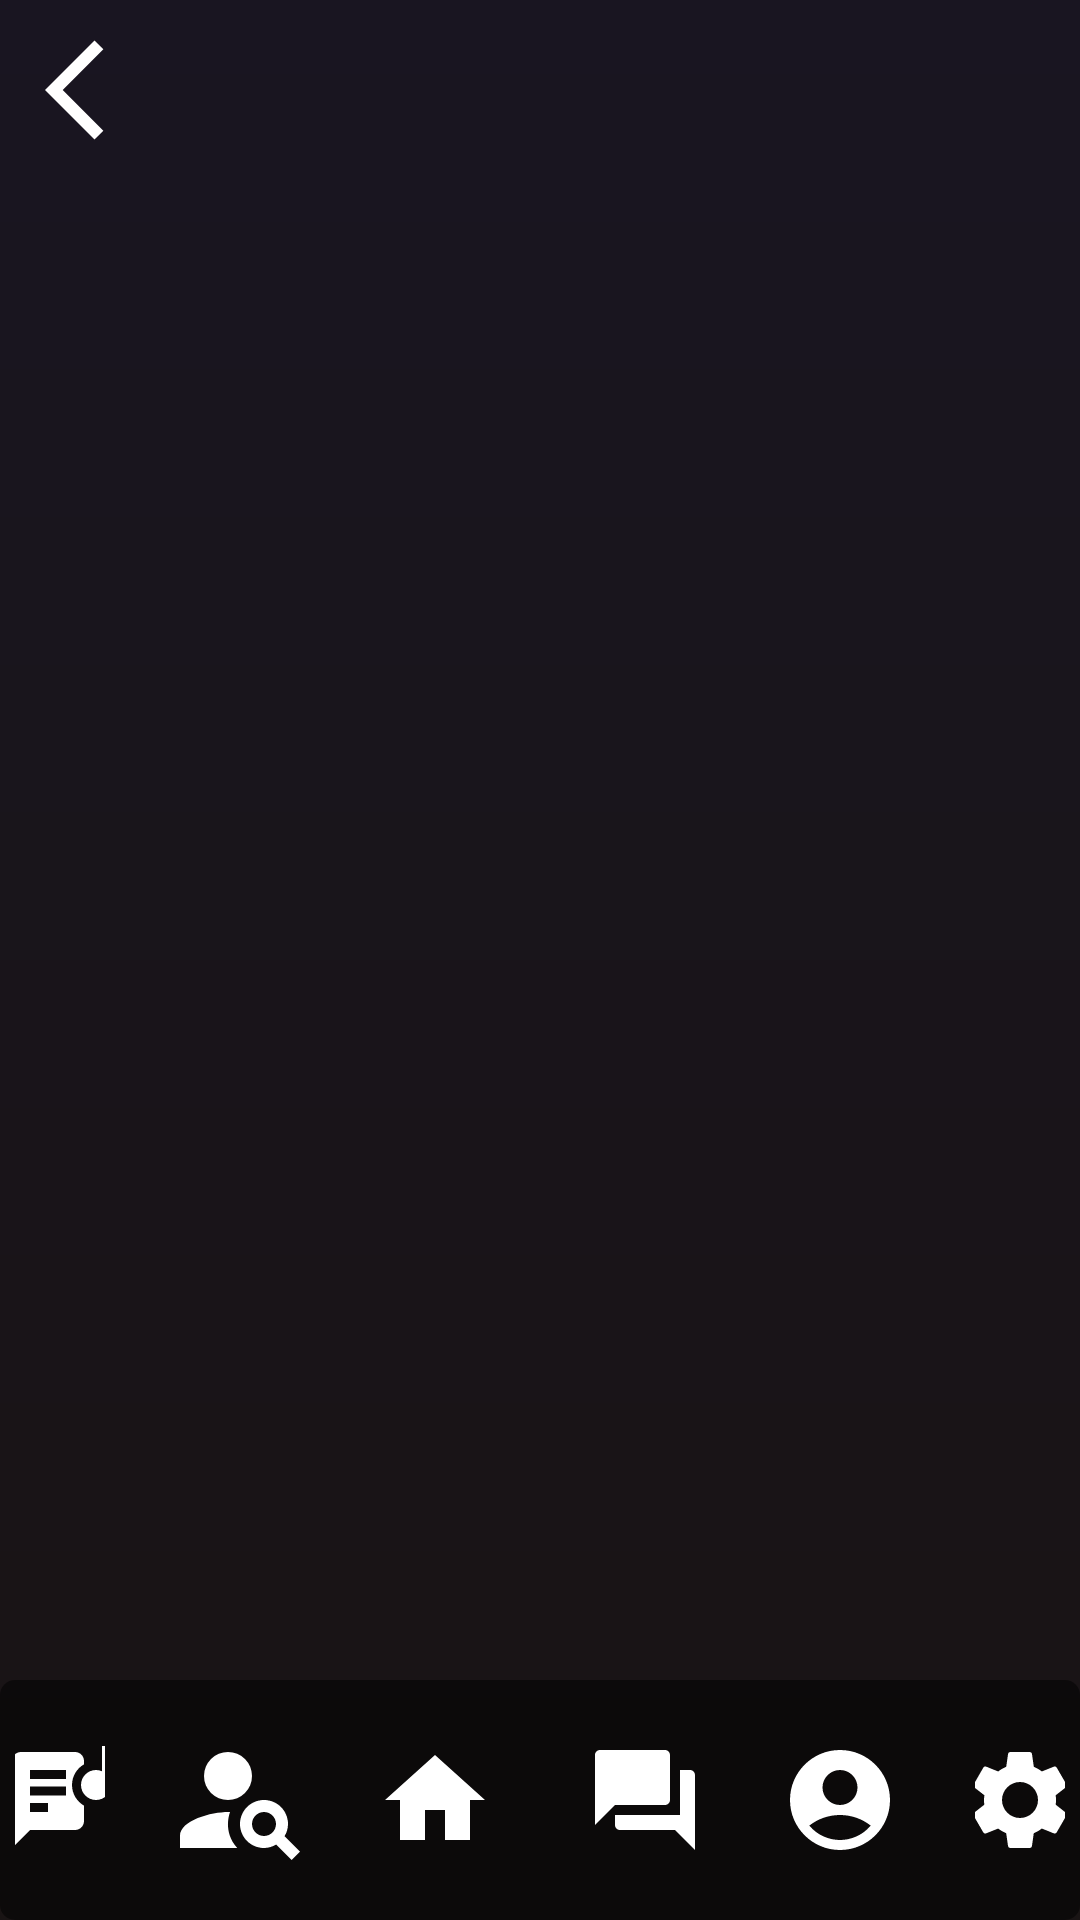

Icons on this 1080x1920 Android screen, each with its box as Rect(x1, y1, x2, y2):
account circle: Rect(790, 1750, 890, 1850)
home: Rect(385, 1755, 485, 1840)
lyrics: Rect(15, 1746, 105, 1845)
person search: Rect(180, 1752, 300, 1860)
question answer: Rect(595, 1750, 695, 1850)
settings: Rect(975, 1752, 1065, 1848)
